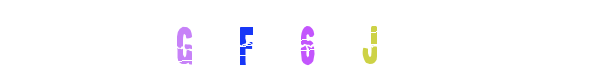6: (260, 0, 340, 80)
F: (204, 0, 284, 80)
G: (204, 0, 284, 80)
J: (331, 0, 411, 80)
